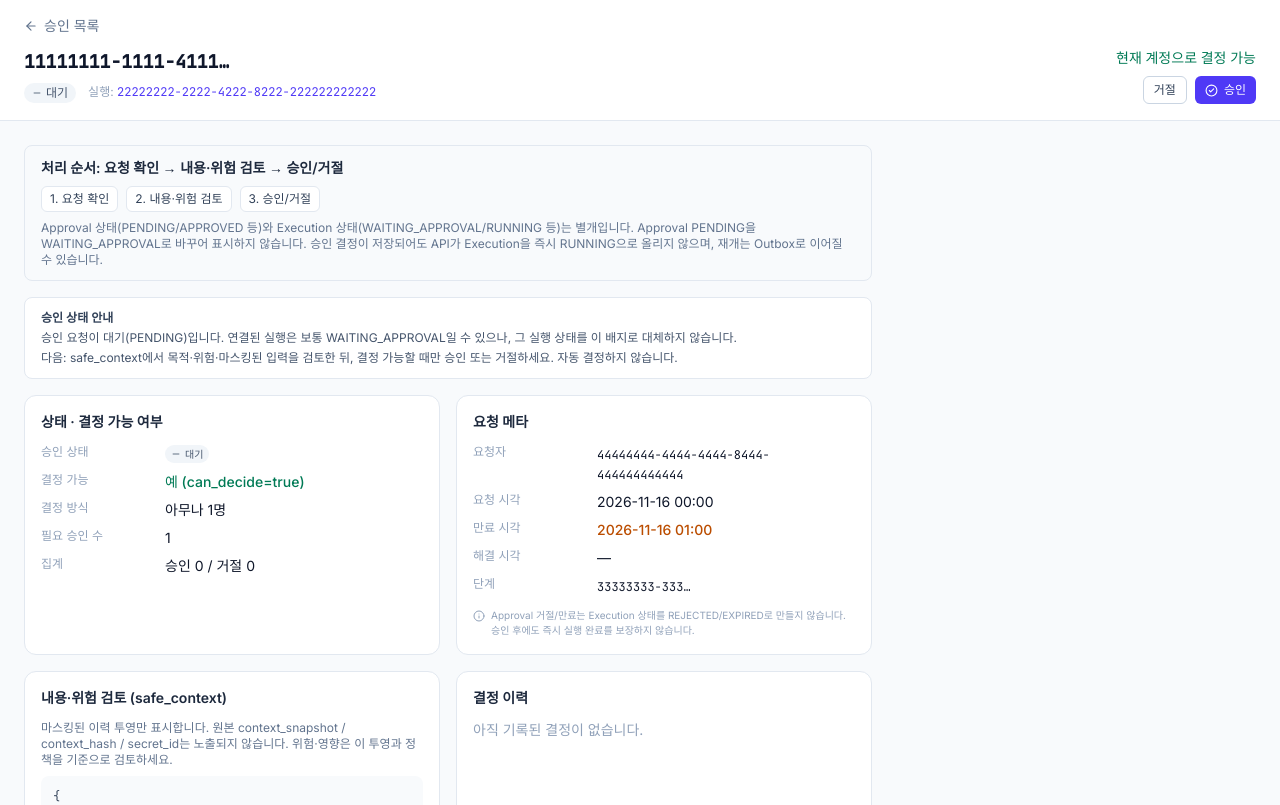
Test case: ApprovalDetail decide (phase 2) › approves via confirmation, shows server result, and refreshes detail GET
Expected: the text "현재 계정으로 결정 가능" is shown, [1116,48,1256,68]
Click the button "승인": (1225, 90) [1195,76,1256,104]
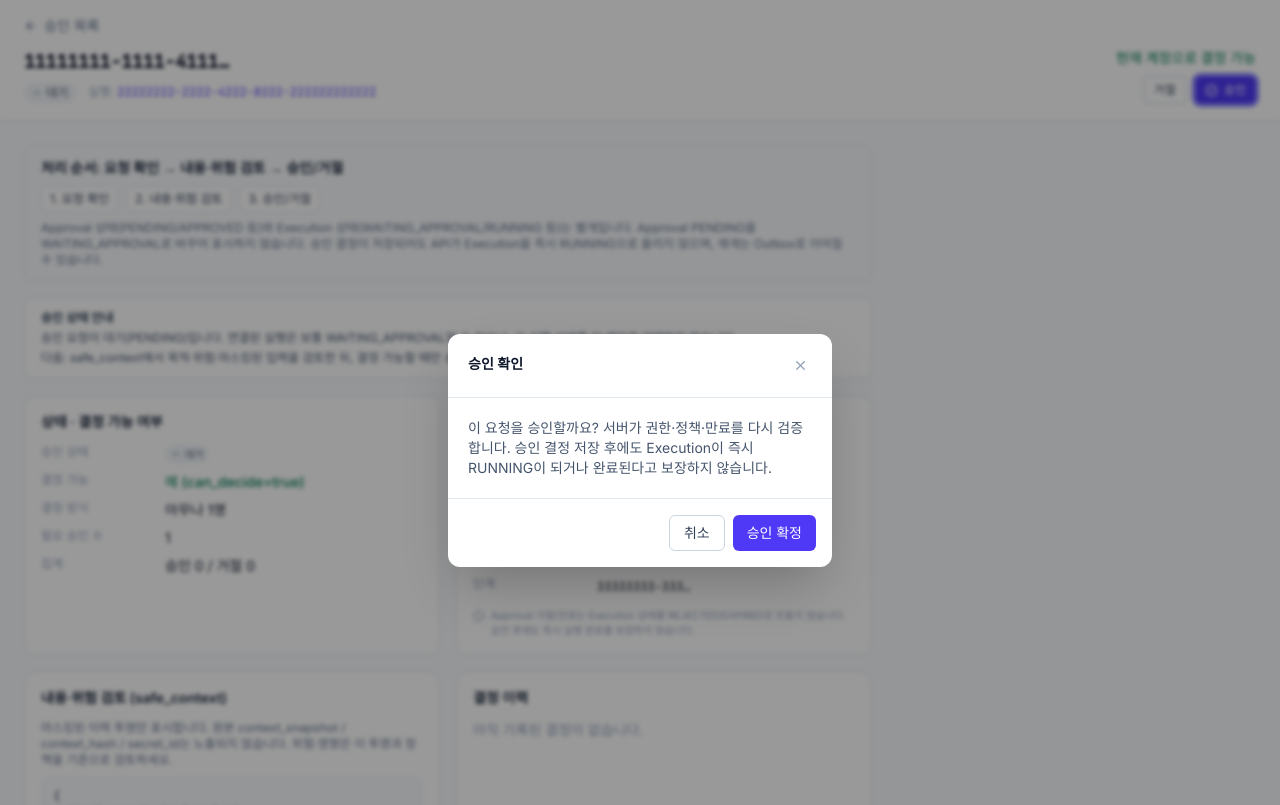
Now the heading "승인 확인" is shown, box [468,354,523,374]
Click the button "승인 확정": (774, 532) [733,514,816,550]
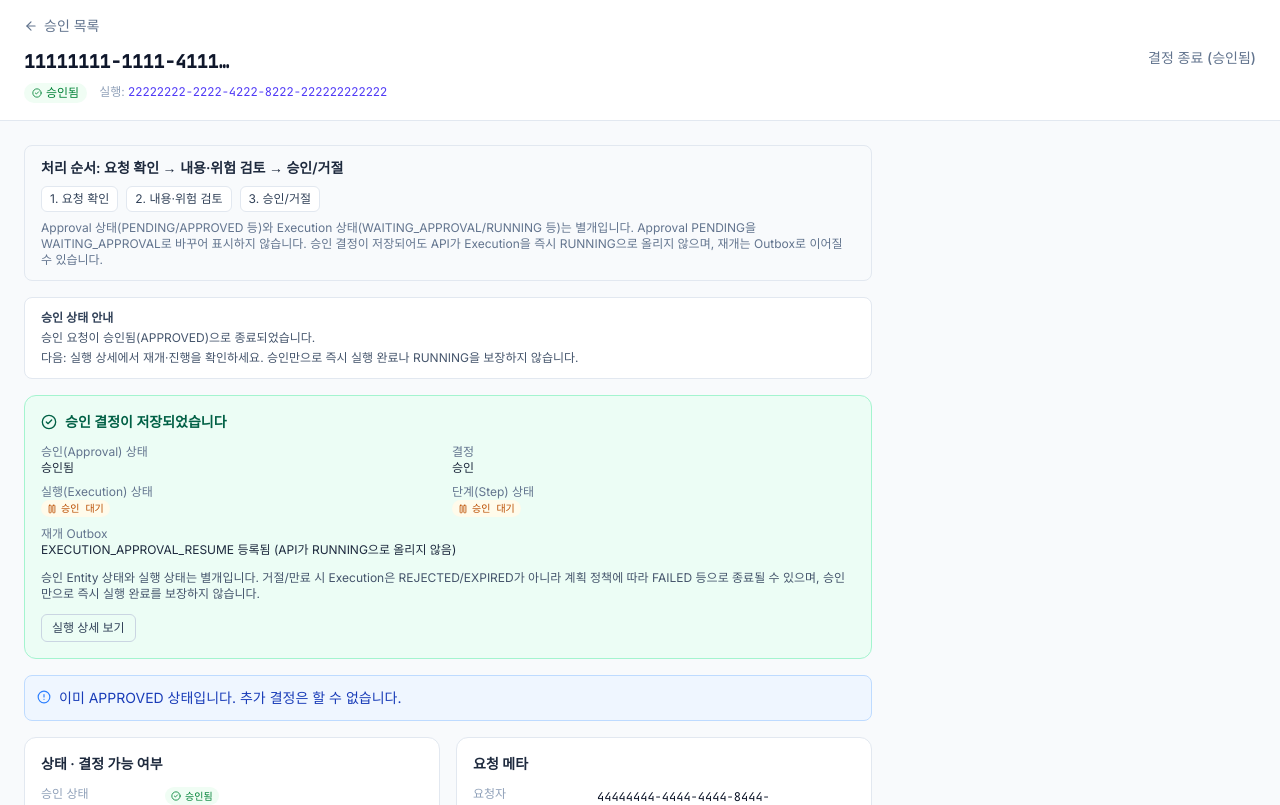
Now the text "승인 결정이 저장되었습니다" is shown, box [41,413,227,430]
Now the text with test id "approval-decision-execution-note" shows "즉시 실행 완료", box [41,570,845,601]
Now the text "EXECUTION_APPROVAL_RESUME 등록됨 (API가 RUNNING으로 올리지 않음)" is shown, box [41,542,456,557]
